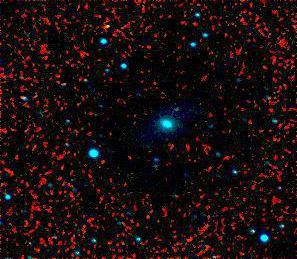star: (92, 12, 122, 42)
